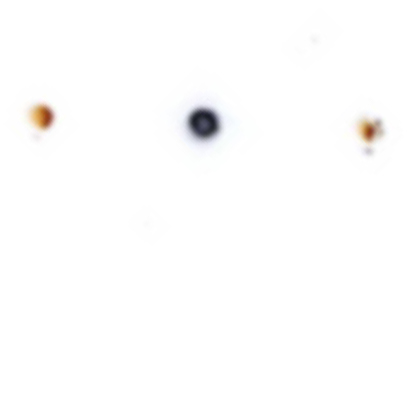cancer: (174, 86, 240, 153)
normal: (343, 103, 402, 165), (14, 99, 67, 153)
